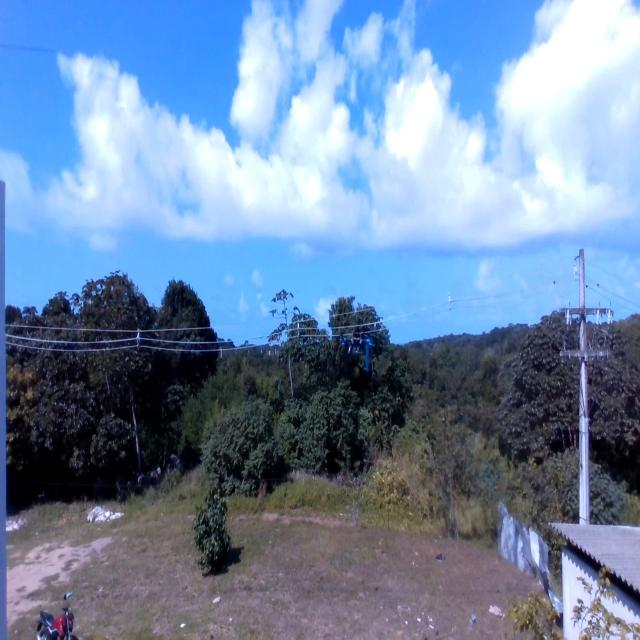-uav-: (332, 314, 380, 378)
